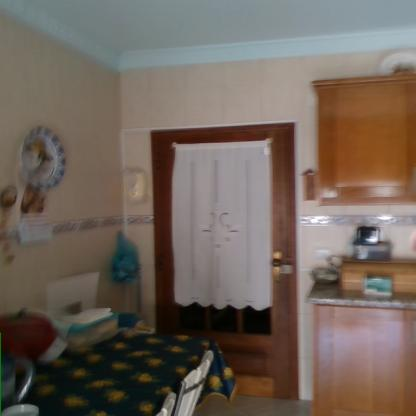closed: (141, 112, 311, 402)
